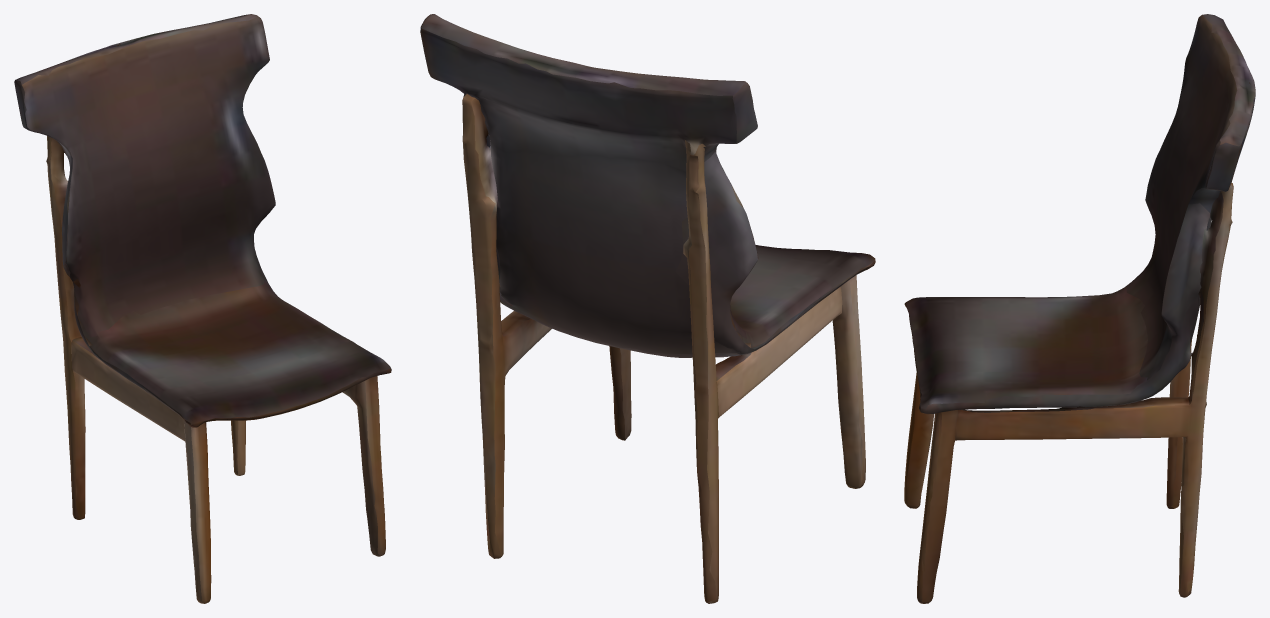
3 renders of one model, left to right at view 1: azimuth 30°, elevation 25°; view 2: azimuth 150°, elevation 25°; view 3: azimuth 270°, elevation 25°, orthographic. The views are drawn at different scales.
Parts seen in each view (by area): view 1: world; view 2: world; view 3: world.
Part boxes in pixels (<box>): world: <box>14,14,391,603</box>; world: <box>420,14,875,603</box>; world: <box>904,14,1255,603</box>.
Size of the model in its own units: 0.7194 by 1.2 by 0.8062.
Materials: 1 (1 with a texture image).
